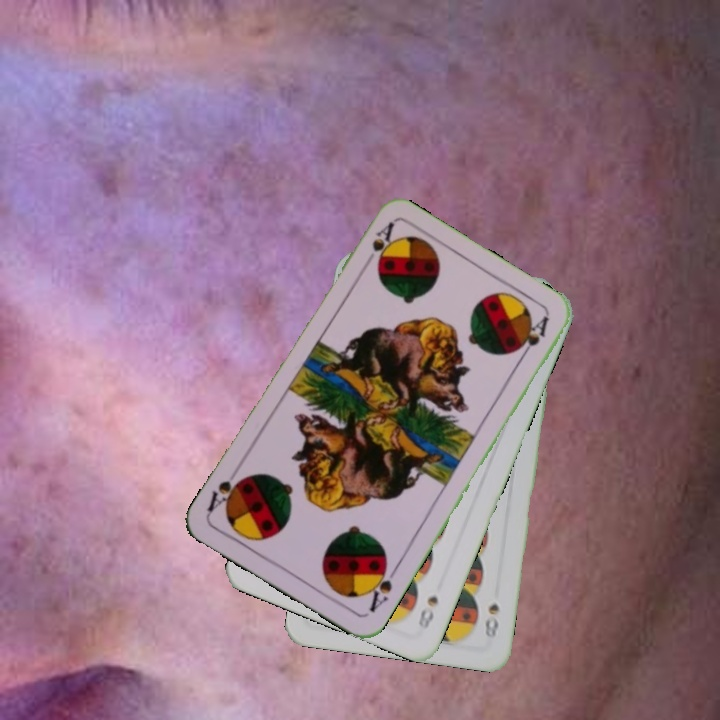S8: (414, 591, 442, 632), (480, 599, 502, 641)
SA: (363, 557, 401, 615), (358, 218, 397, 270)
